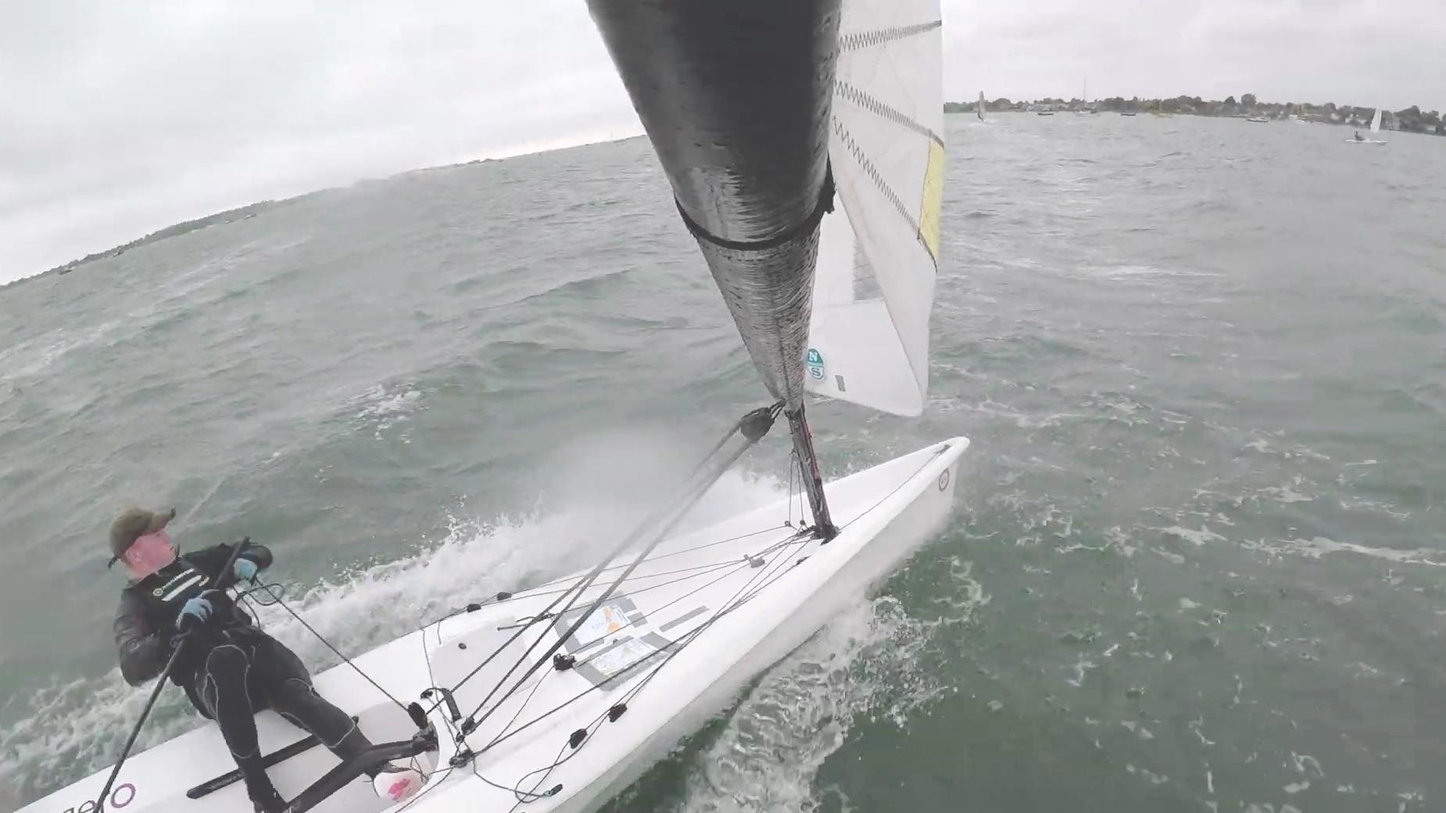boat: (11, 0, 971, 813)
land: (947, 92, 1446, 136)
person: (110, 510, 423, 813)
sea: (600, 99, 1446, 813), (0, 138, 768, 813)
sky: (0, 0, 638, 286), (943, 0, 1446, 110)
